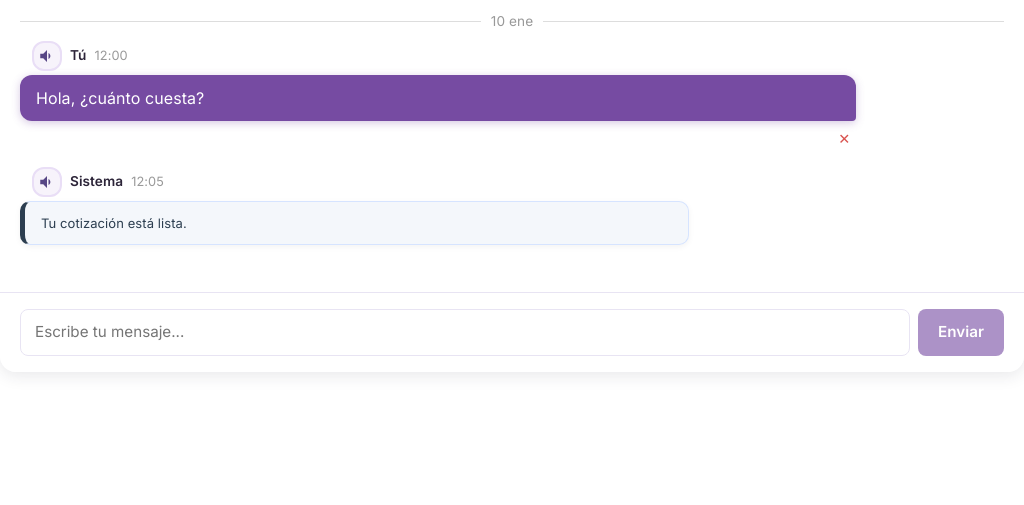
Test: Chat TTS (HU-35) › envía mensajes y valida contenido vacío
Expected: the text "Hola, ¿cuánto cuesta?" is shown, x1=20 y1=75 x2=856 y2=121
Submit the form with class "chat-input-form", box x1=0 y1=292 x2=1023 y2=372
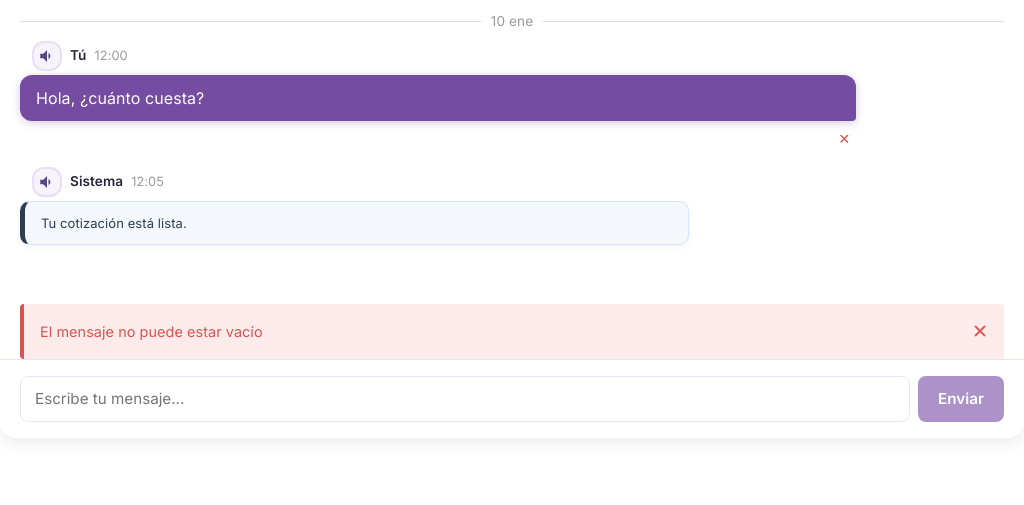
Expected: the text "El mensaje no puede estar vacío" is shown, x1=40 y1=323 x2=263 y2=340
Type "Gracias" into the field with placeholder "Escribe tu mensaje..." at (465, 399), box x1=20 y1=376 x2=910 y2=422
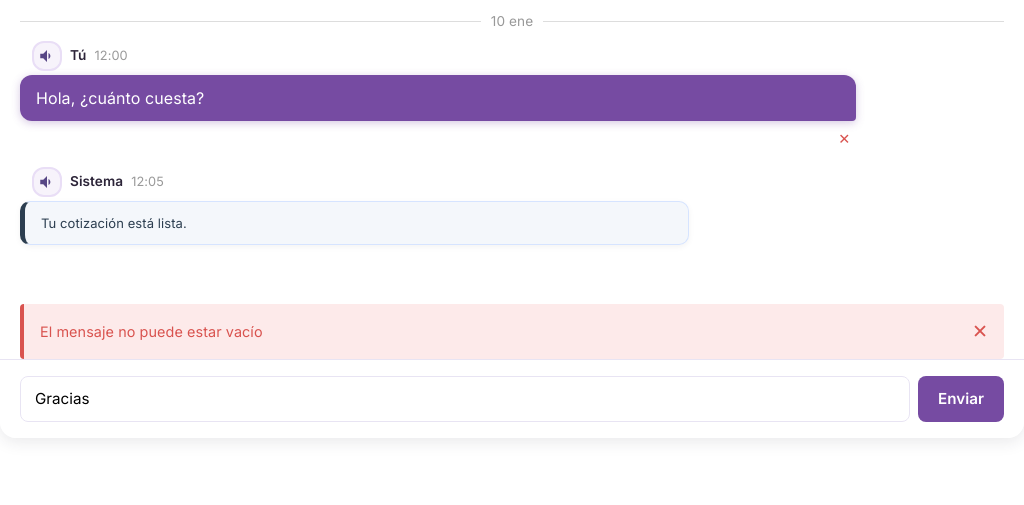
Click the button with aria-label "Enviar mensaje" at (961, 399), box x1=918 y1=376 x2=1004 y2=422
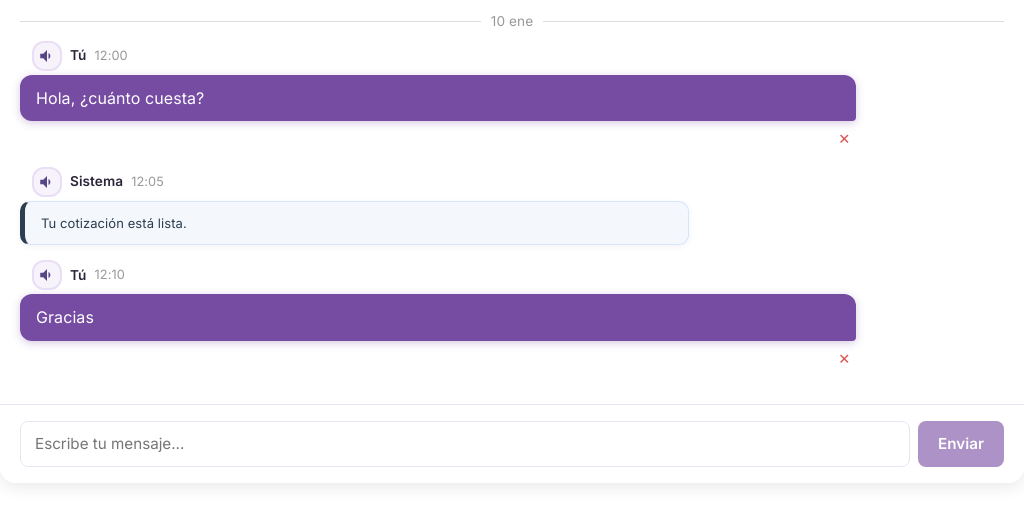
Expected: the text "Gracias" is shown, x1=20 y1=294 x2=856 y2=341
